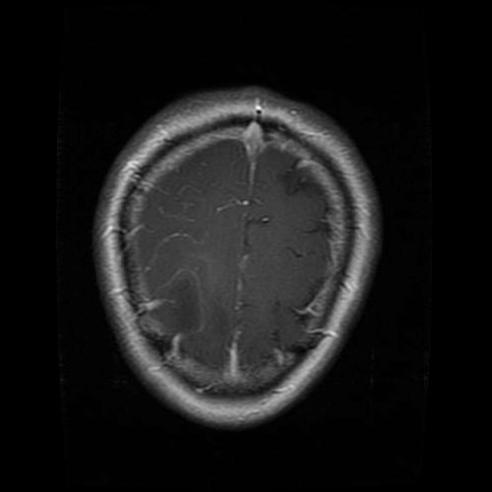Tumour-Glioma: (144, 269, 207, 351)
